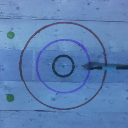Axe Tip: (81, 64, 95, 67)
